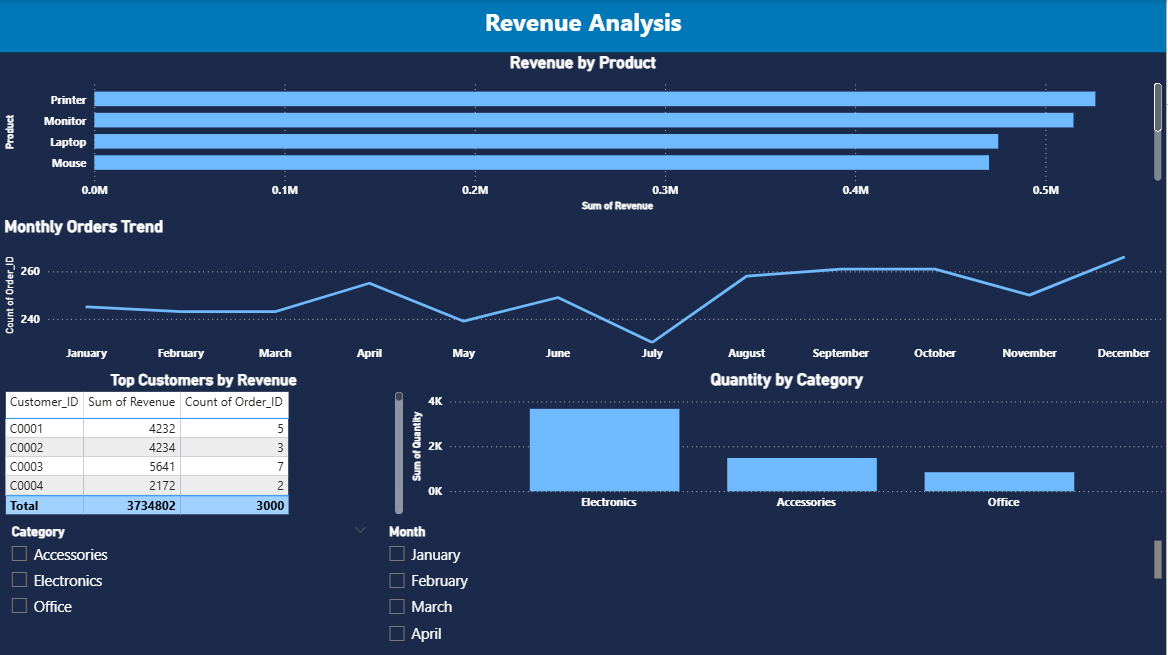

This screenshot's page, from the dashboard's own definition file:
{"tool":"powerbi","page":{"name":"Revenue Analysis","canvas":[1280,720],"ordinal":1},"visuals":[{"type":"textbox","box":[0,0,1280.3,57.6],"z":0},{"type":"clusteredBarChart","title":"Revenue by Product","fields":{"Category":["customer_cohort_dataset.Product"],"Y":["Sum(customer_cohort_dataset.Revenue)"]},"box":[0,57.6,1280.3,179.8],"z":1000},{"type":"lineChart","title":"Monthly Orders Trend","fields":{"Category":["customer_cohort_dataset.Order_Month.Variation.Date Hierarchy.Month"],"Y":["CountNonNull(customer_cohort_dataset.Order_ID)"]},"box":[0,237.4,1280.3,168.8],"z":2000},{"type":"clusteredColumnChart","title":"Quantity by Category","fields":{"Category":["customer_cohort_dataset.Category"],"Y":["Sum(customer_cohort_dataset.Quantity)"]},"box":[447.3,406.2,832.9,163.3],"z":3000},{"type":"tableEx","title":"Top Customers by Revenue","fields":{"Values":["customer_cohort_dataset.Customer_ID","Sum(customer_cohort_dataset.Revenue)","customer_cohort_dataset.Order_ID"]},"box":[0,406.2,447.3,163.3],"z":4000},{"type":"slicer","fields":{"Values":["customer_cohort_dataset.Category"]},"box":[0,569.5,414.4,150.9],"z":5000},{"type":"slicer","fields":{"Values":["customer_cohort_dataset.Order_Month.Variation.Date Hierarchy.Month"]},"box":[414.4,569.5,865.9,150.9],"z":6000}]}

Visuals, with their boxes in screenshot pixels (x1, y1, x2, y2), scaled from the page's 1280x720 canvas onto the 1168x655 screenshot:
textbox: bbox=(0, 0, 1167, 52)
"Revenue by Product" clusteredBarChart: bbox=(0, 52, 1167, 216)
"Monthly Orders Trend" lineChart: bbox=(0, 216, 1167, 370)
"Quantity by Category" clusteredColumnChart: bbox=(408, 370, 1167, 518)
"Top Customers by Revenue" tableEx: bbox=(0, 370, 408, 518)
slicer - customer_cohort_dataset.Category: bbox=(0, 518, 378, 654)
slicer - customer_cohort_dataset.Order_Month.Variation.Date Hierarchy.Month: bbox=(378, 518, 1167, 654)
